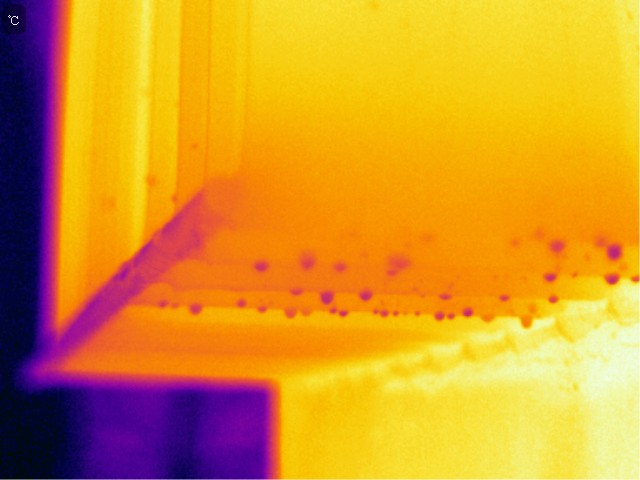Water: (603, 241, 627, 265), (294, 250, 316, 274), (550, 230, 569, 257), (252, 259, 277, 277), (313, 287, 336, 306), (600, 268, 625, 285), (331, 307, 355, 324), (281, 306, 307, 321), (493, 288, 512, 306), (542, 293, 570, 305), (432, 310, 456, 323), (542, 271, 561, 286), (459, 305, 477, 320), (188, 303, 205, 317), (357, 291, 375, 304), (377, 310, 400, 320), (280, 287, 308, 295), (436, 289, 456, 300), (235, 298, 249, 311), (257, 305, 269, 317)
